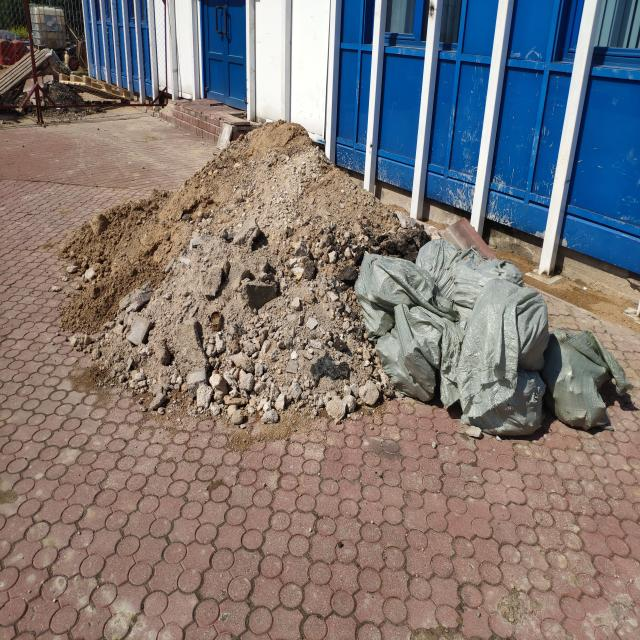entulho: (443, 293, 552, 437), (373, 300, 462, 404), (552, 331, 626, 428), (428, 236, 524, 301), (362, 248, 430, 324), (1, 48, 56, 100), (28, 4, 68, 52), (0, 38, 30, 66)
terra: (92, 111, 390, 386)
